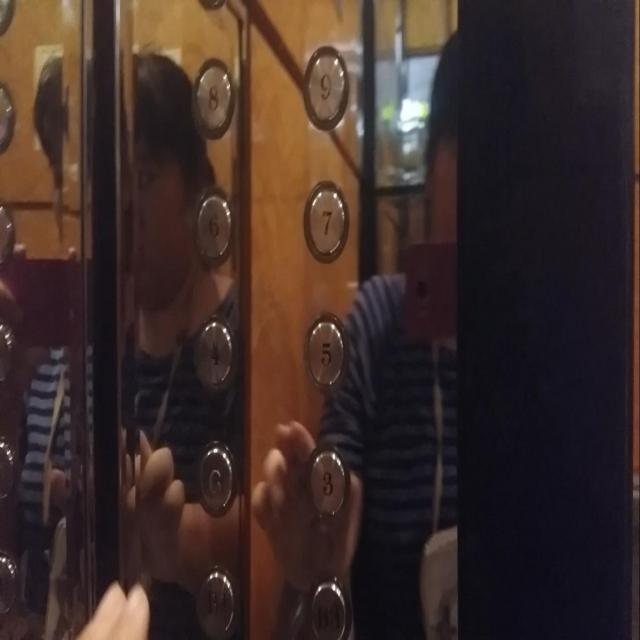3: (304, 438, 350, 522)
4: (192, 312, 236, 395)
5: (302, 308, 348, 394)
6: (192, 182, 235, 266)
7: (302, 175, 350, 264)
8: (189, 55, 236, 140)
9: (301, 43, 350, 134)
B1: (194, 558, 235, 640)
B3: (304, 571, 353, 639)
G: (196, 436, 237, 516)
